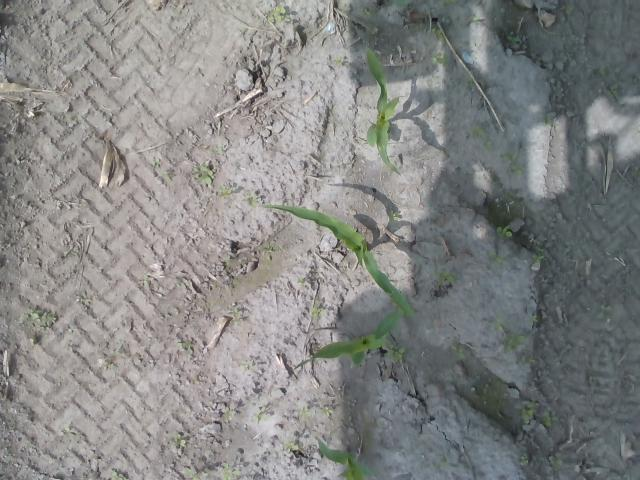Maize: (260, 200, 418, 323), (294, 310, 408, 369), (366, 46, 405, 177), (316, 437, 377, 480)
Weeds: (494, 322, 524, 352), (520, 404, 558, 426), (29, 311, 55, 328), (504, 153, 523, 176), (194, 166, 214, 185), (176, 341, 192, 363), (224, 463, 242, 480), (268, 4, 284, 22), (434, 270, 458, 282), (242, 193, 262, 207), (389, 347, 406, 363), (495, 225, 513, 239), (506, 33, 520, 48), (489, 249, 504, 263), (451, 344, 466, 358), (182, 468, 198, 480), (260, 243, 278, 253), (310, 307, 326, 318), (111, 470, 128, 480), (174, 433, 187, 446), (432, 26, 444, 40), (320, 406, 334, 418), (439, 0, 457, 8), (387, 209, 398, 222), (532, 252, 544, 263), (219, 185, 231, 196), (471, 126, 483, 137), (552, 456, 562, 469), (284, 442, 298, 451), (150, 157, 160, 169), (433, 54, 445, 64), (222, 410, 235, 419), (519, 455, 530, 465), (360, 8, 373, 16), (255, 408, 262, 422), (242, 360, 254, 368), (299, 406, 309, 415)
